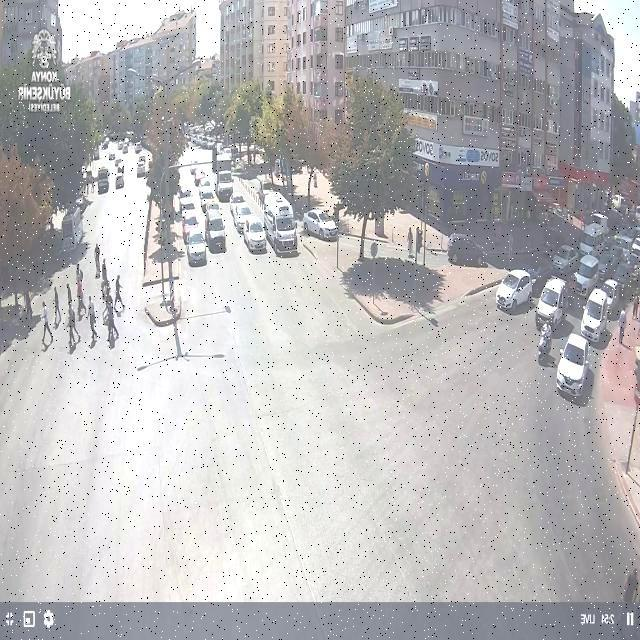Car: (556, 332, 590, 397), (580, 287, 612, 340), (496, 269, 532, 311), (446, 234, 484, 266), (578, 217, 608, 256), (302, 208, 338, 240), (572, 254, 600, 293), (204, 208, 227, 250), (596, 278, 622, 314), (242, 216, 267, 253), (522, 260, 556, 286), (550, 245, 579, 274), (185, 229, 208, 264), (231, 202, 254, 233), (216, 167, 234, 200), (180, 198, 199, 229), (197, 178, 215, 206), (204, 202, 222, 224), (98, 167, 110, 194), (192, 167, 206, 185), (230, 191, 245, 206), (136, 156, 147, 176), (178, 185, 192, 199), (116, 174, 124, 189), (115, 158, 124, 168), (135, 143, 142, 153), (117, 164, 124, 174), (190, 167, 198, 175)
Cycle: (534, 317, 554, 366)
Truck: (260, 192, 296, 254), (62, 206, 85, 250)
Van: (536, 277, 568, 327)
